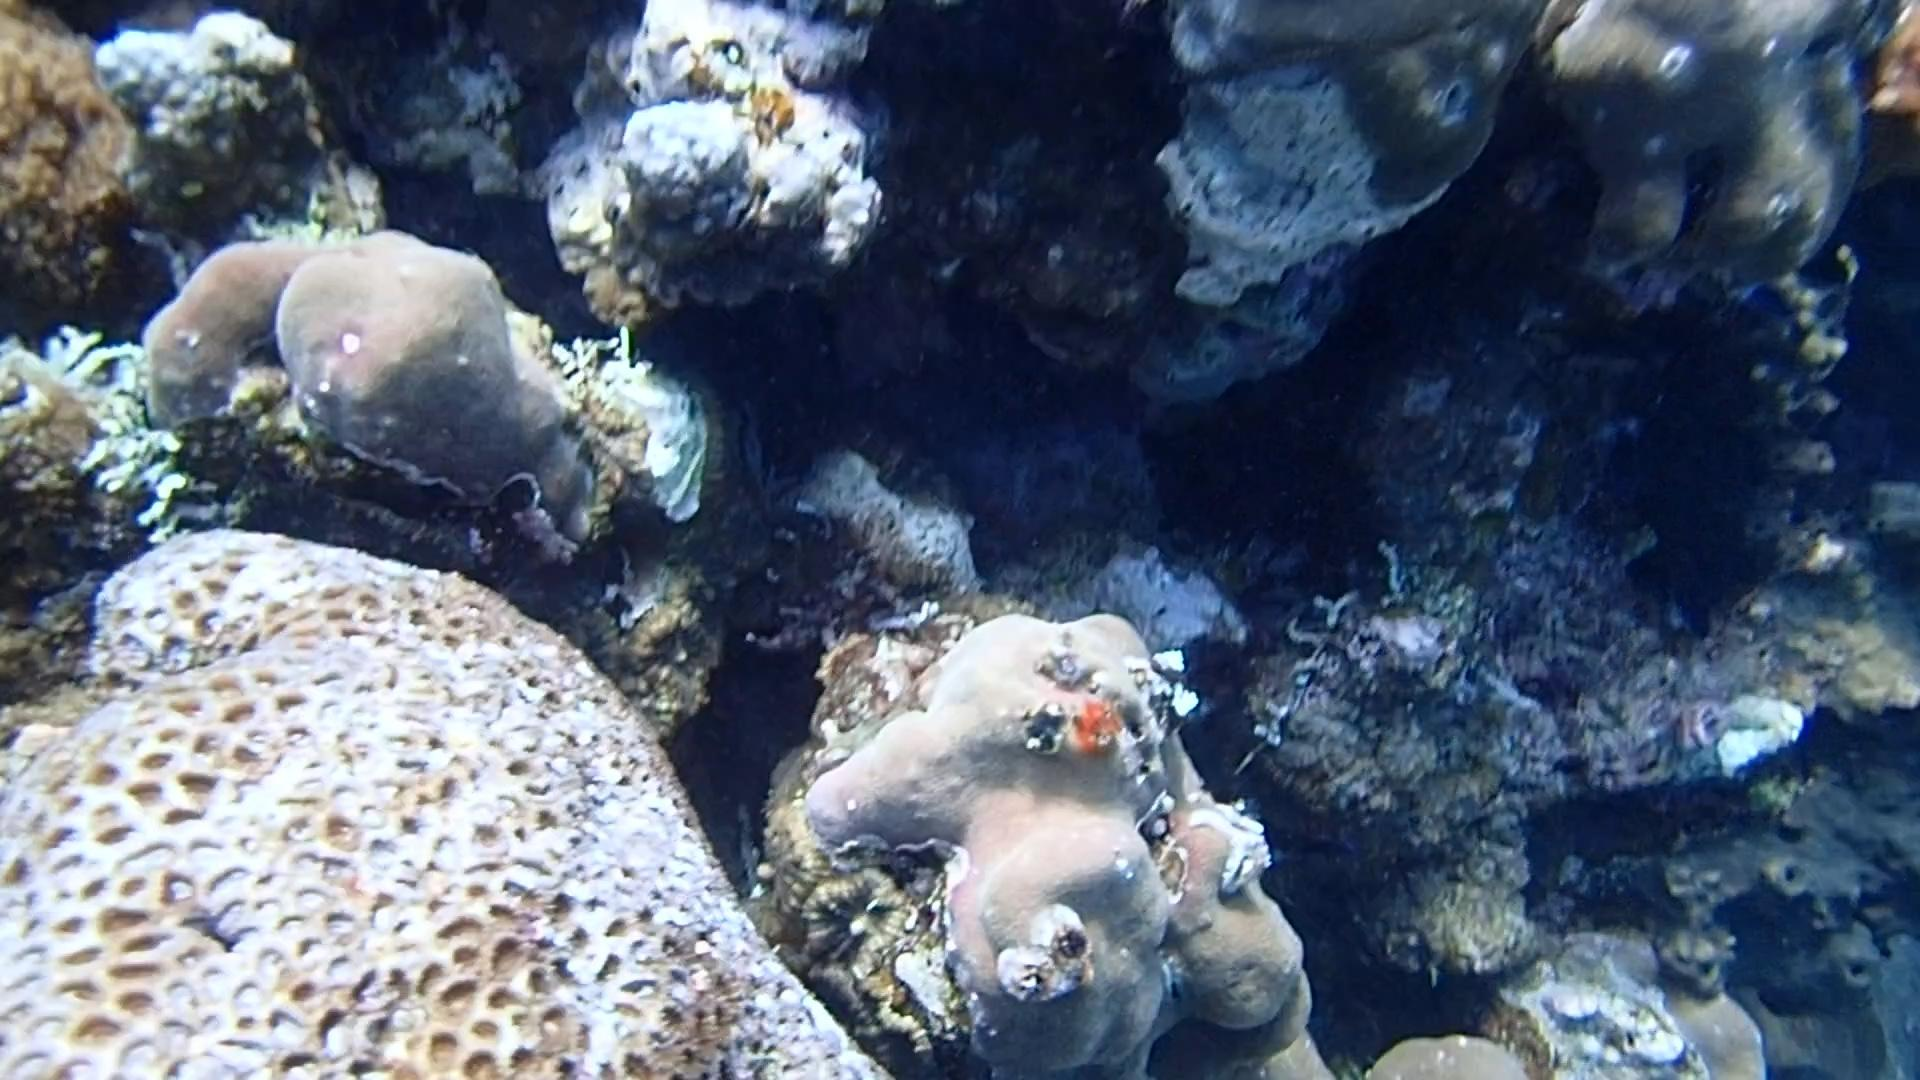Dark Fish: (1787, 228, 1873, 302)
